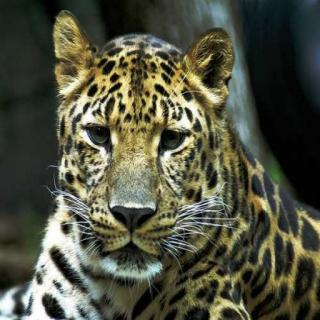-: (44, 13, 320, 320)
